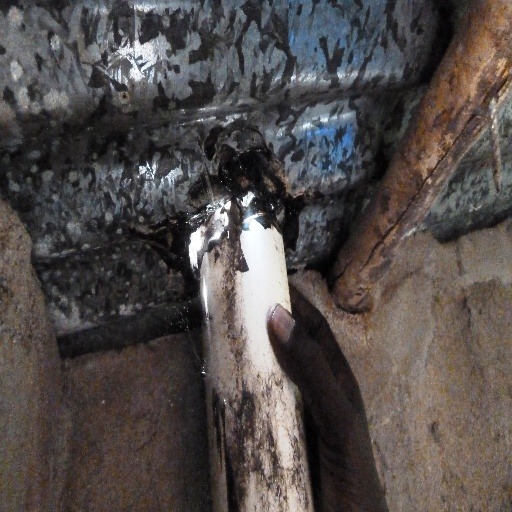hand: (260, 257, 389, 490)
